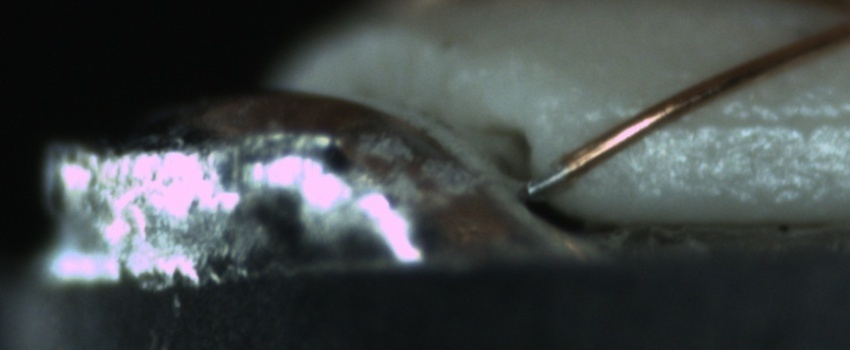DL: (603, 86, 849, 153)
TS: (527, 161, 571, 196)
